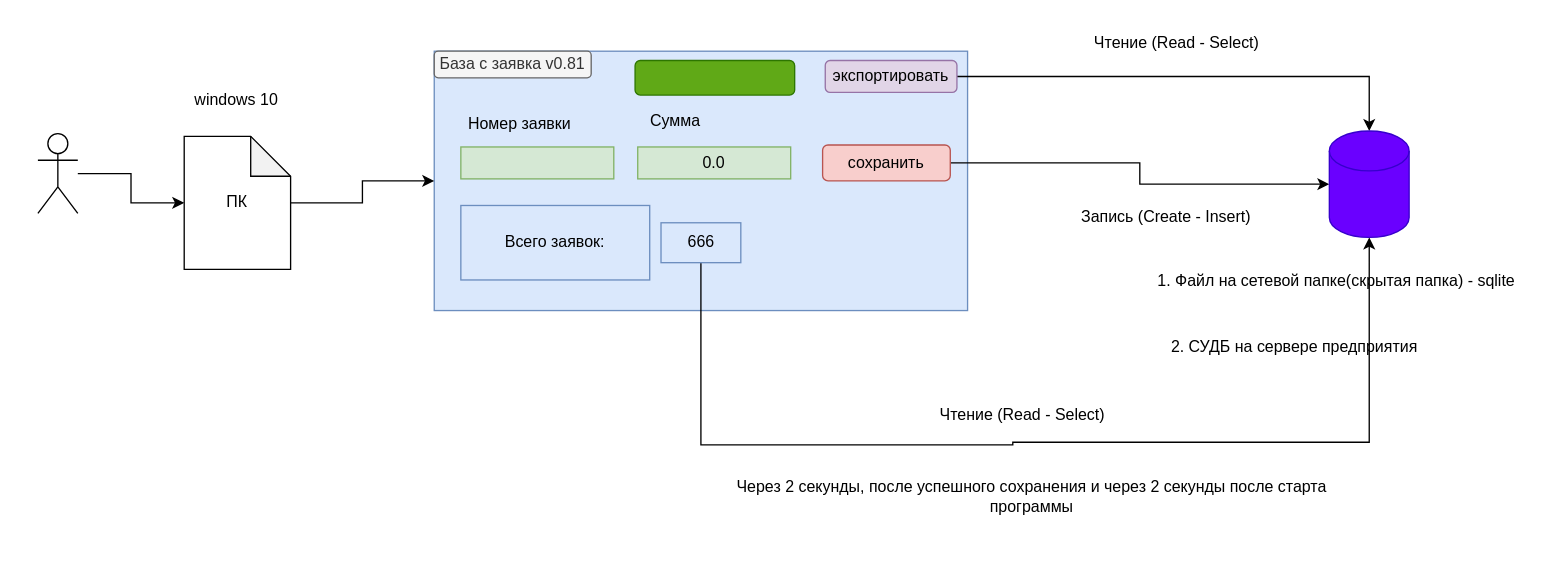
This 1557x563 diagram has some shape labels left out. The shapes that lost their labels are listed below. From the top down, each one's centre as x and y in pixels, then its label:
At pixel 714 77: "отправить на почту".
At pixel 57 172: "Кадровик".
At pixel 1368 183: "DataBase".
